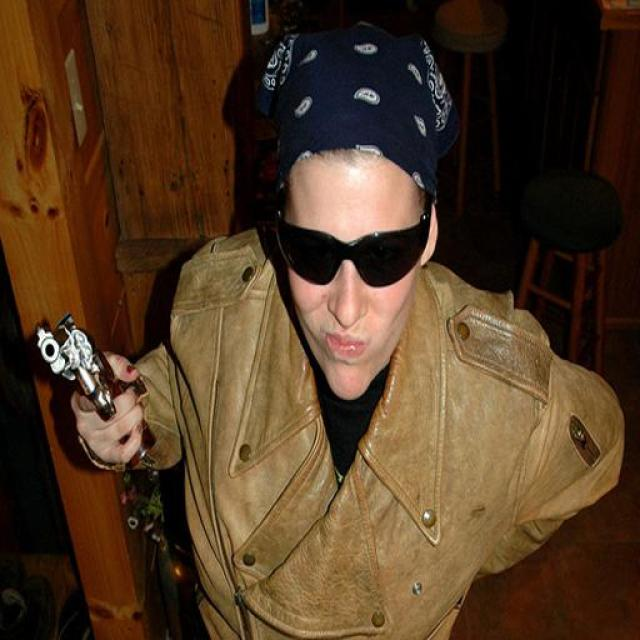pistol: (34, 306, 150, 446)
